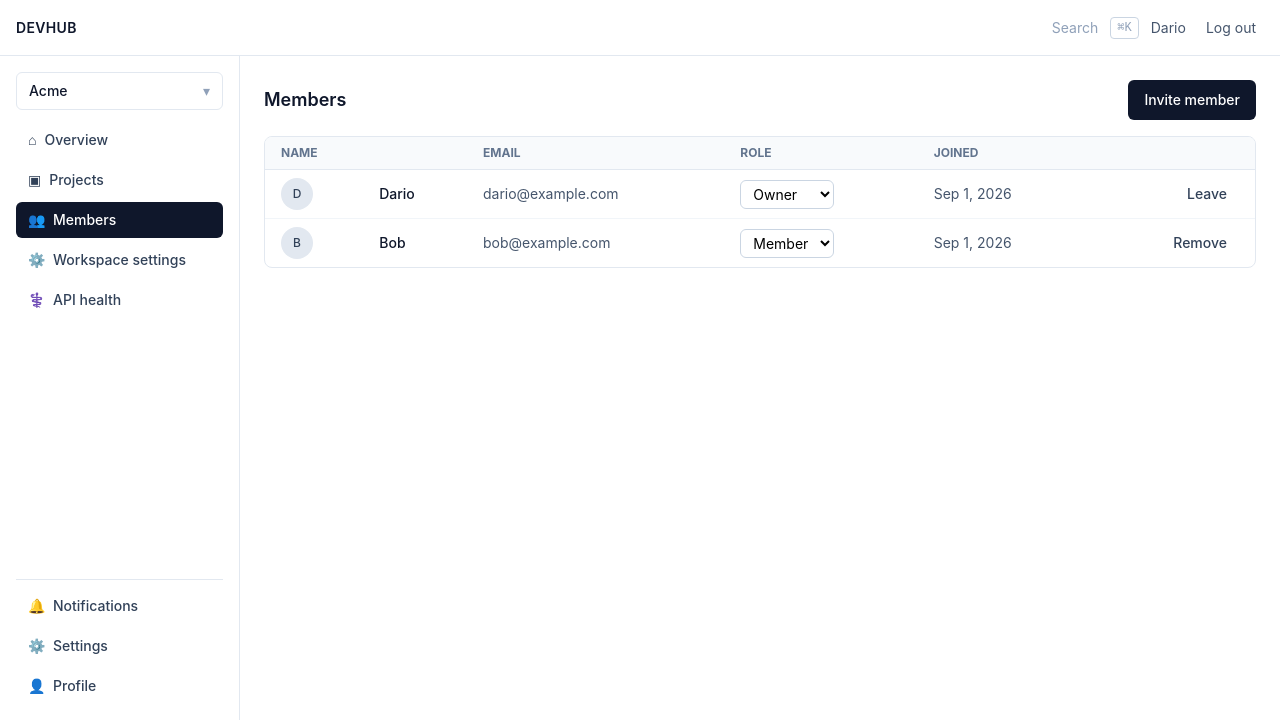
Test: as an owner › can invite a new member by email
This screenshot has width=1280, height=720.
Expected: the text "Bob" is shown, [363,218,467,267]
Click the button "Invite member" at (1192, 100), box [1128,80,1256,120]
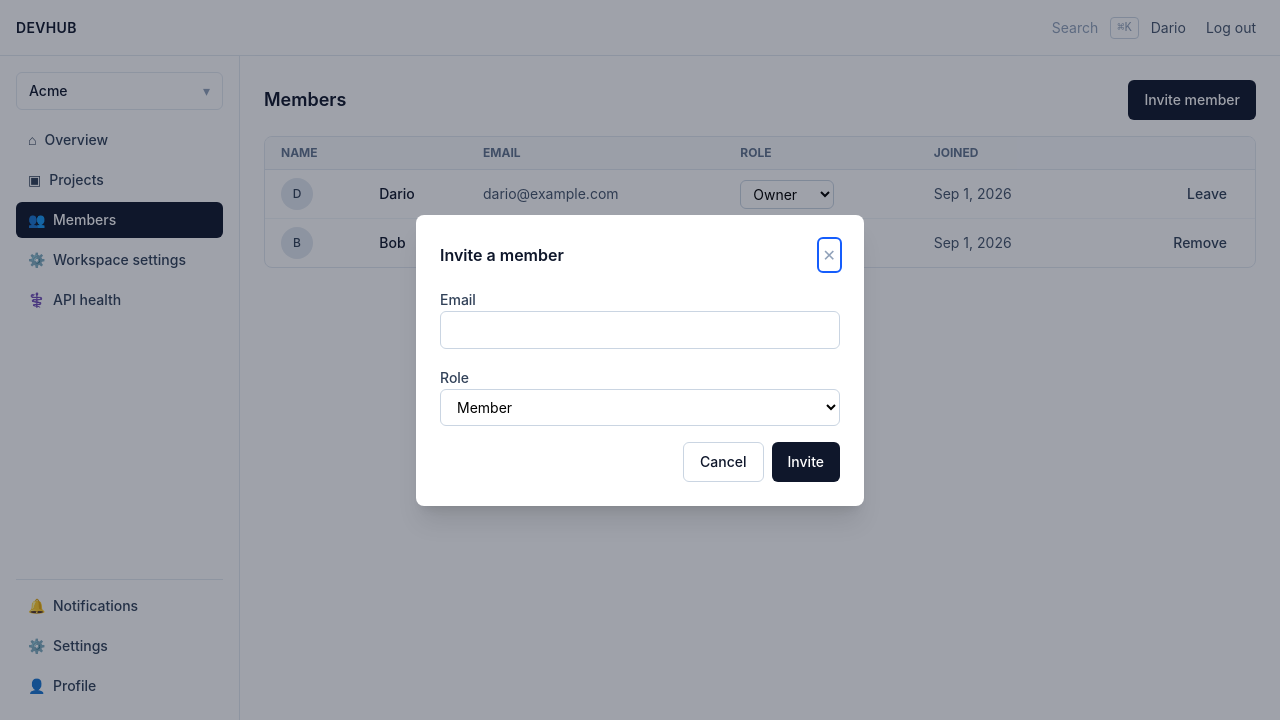
Type "ana@example.com" into the field labelled "Email" at (640, 330), box [440,310,840,348]
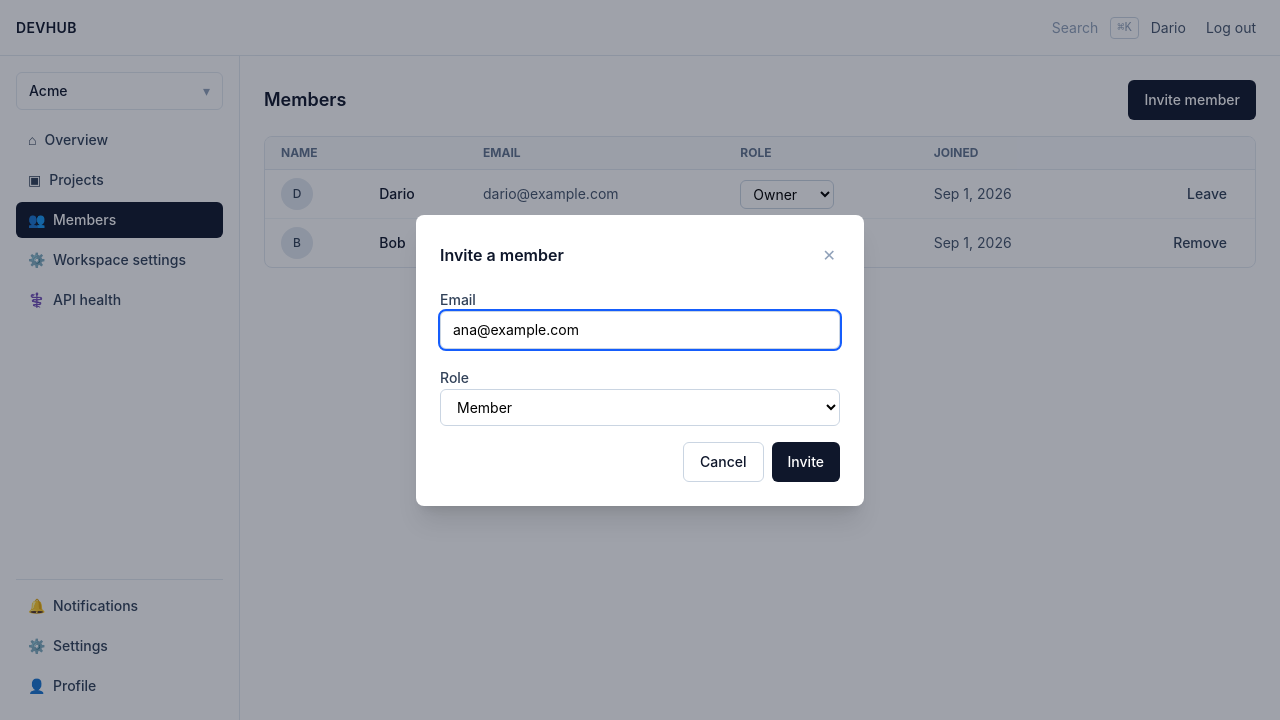
Click the button "Invite" at (806, 462), box [772,442,840,482]
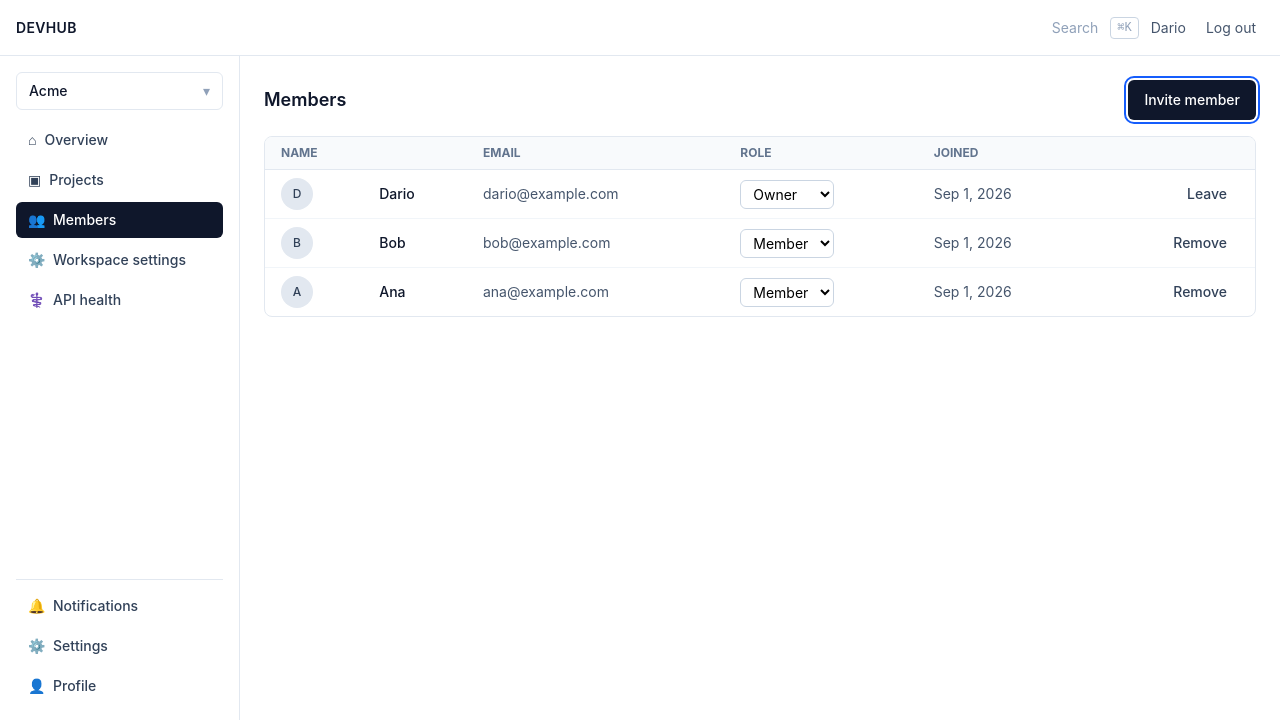
Expected: the text "Ana" is shown, [363,268,467,316]
